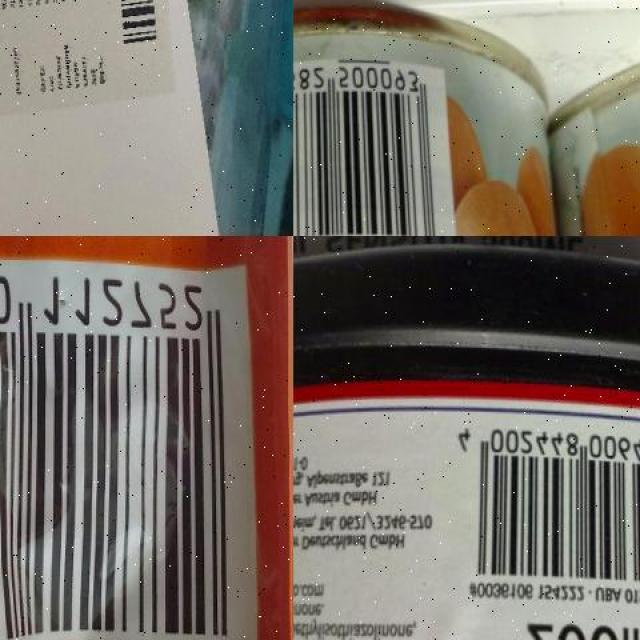Barcode: (0, 238, 257, 640), (449, 420, 640, 607), (294, 52, 458, 236), (96, 0, 168, 63)
